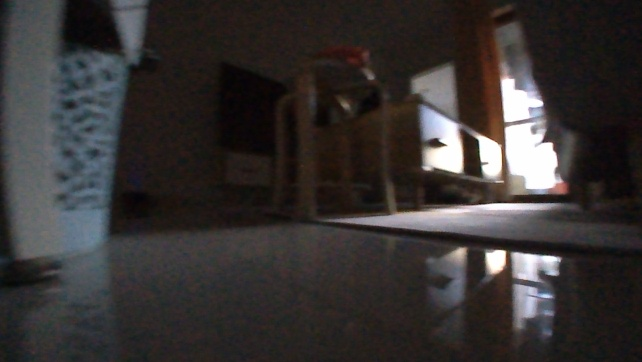blanket: (255, 200, 641, 255)
tea_table: (315, 100, 503, 212)
